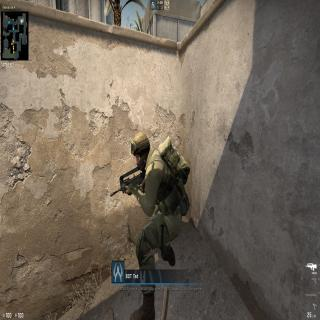CT-Head: (129, 129, 151, 170)
